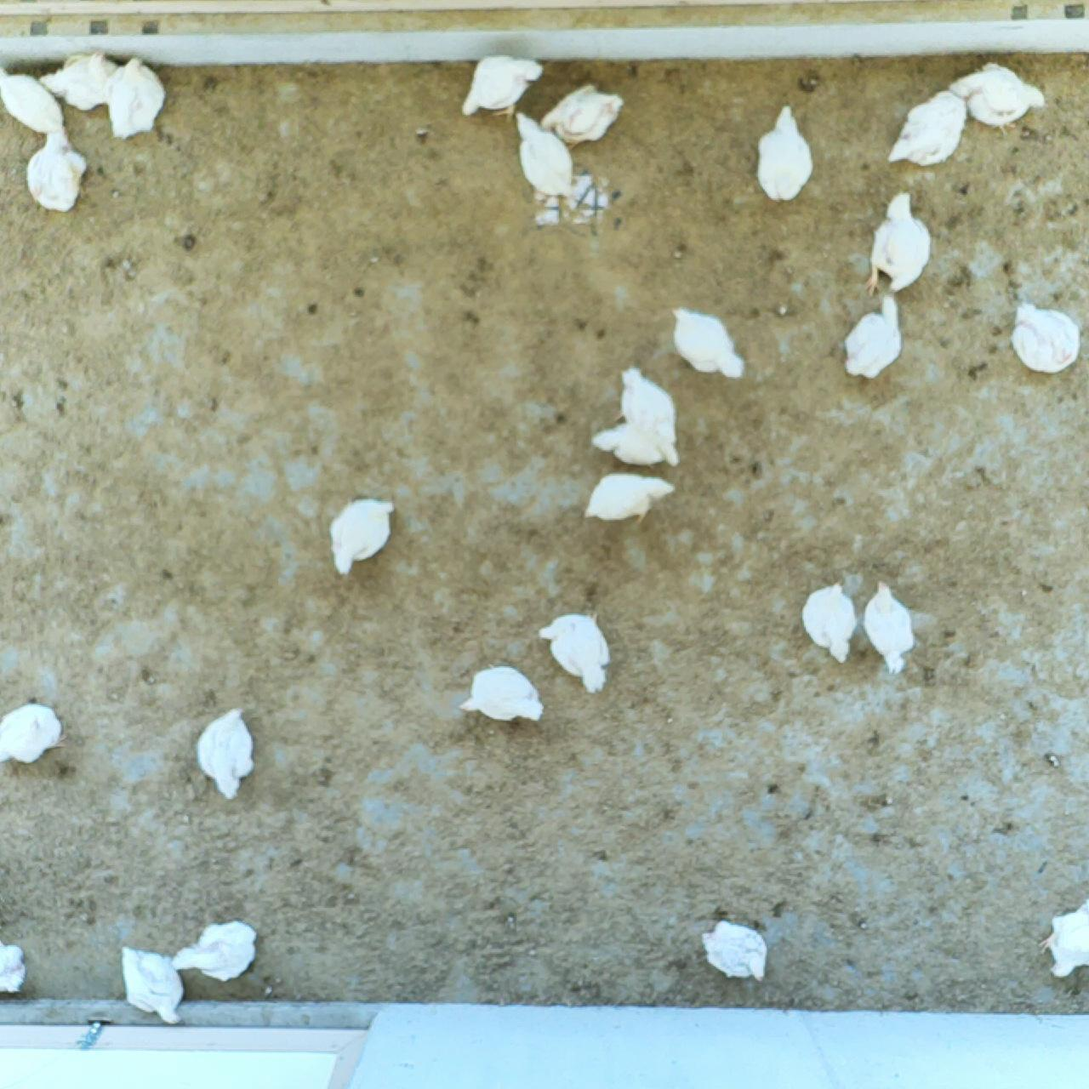chicken: (868, 192, 930, 293), (538, 615, 613, 694), (954, 65, 1046, 128), (672, 310, 747, 384), (511, 111, 574, 199), (889, 95, 970, 162), (174, 922, 256, 986), (755, 110, 812, 202), (120, 946, 185, 1026), (196, 708, 254, 795), (858, 580, 914, 670), (102, 58, 163, 140), (459, 55, 544, 113), (459, 666, 545, 722), (584, 473, 676, 525), (845, 294, 901, 379), (26, 133, 88, 209), (43, 48, 116, 112), (1013, 303, 1080, 370), (622, 365, 679, 443), (546, 88, 623, 145), (700, 921, 767, 986), (331, 504, 395, 571), (1, 65, 63, 134), (801, 582, 853, 663), (1042, 901, 1089, 979), (593, 425, 679, 466), (3, 705, 60, 765), (0, 942, 27, 995)
